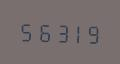five: (18, 18, 33, 43)
nine: (82, 20, 97, 45)
one: (66, 20, 81, 44)
six: (34, 19, 49, 43)
three: (50, 19, 65, 44)
